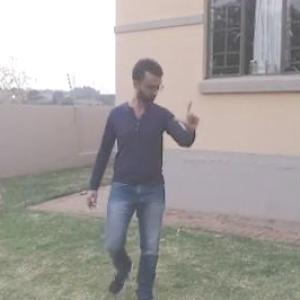land_hand: (167, 96, 209, 132)
